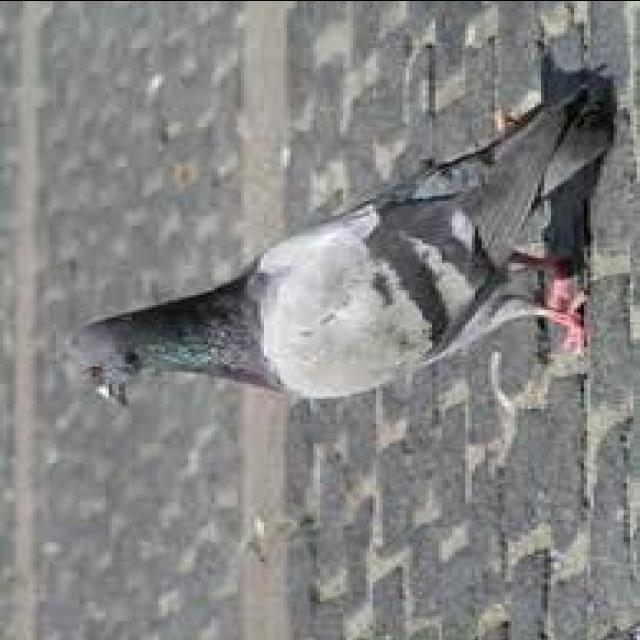pigeon: (51, 89, 614, 413)
